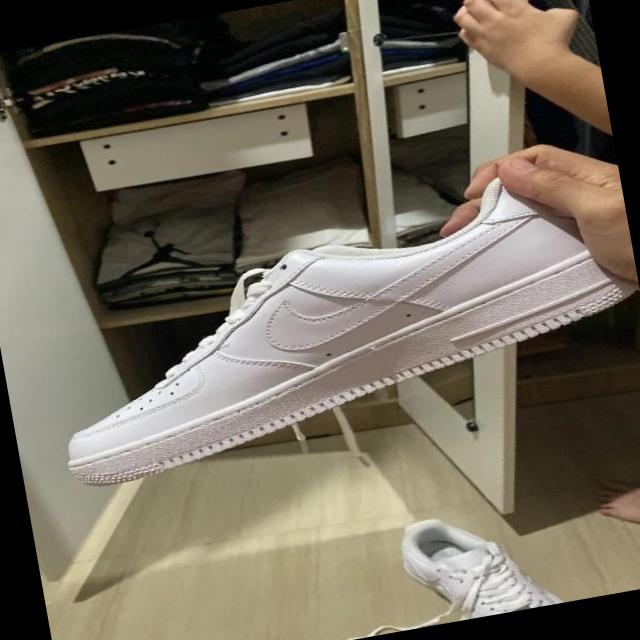nike_original_airforce: (27, 155, 640, 492)
